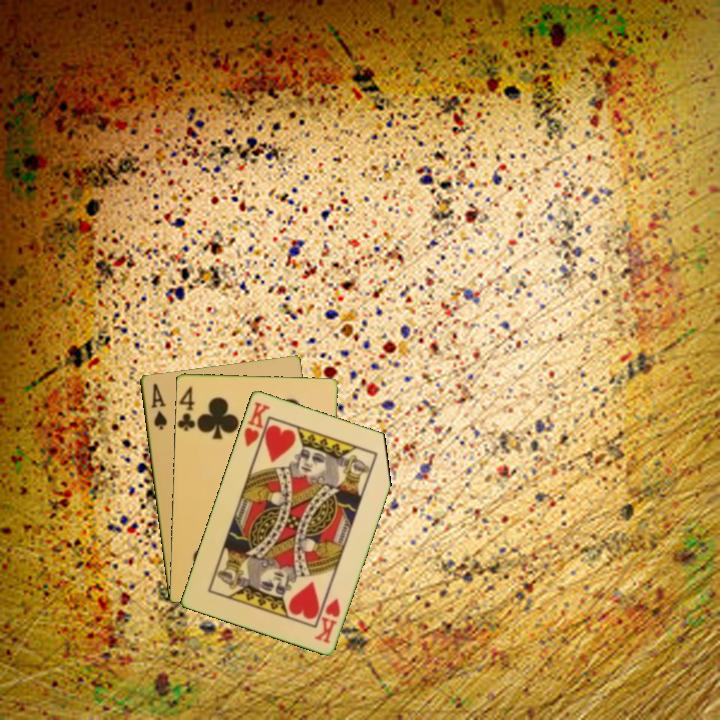4c: (176, 383, 198, 434)
As: (147, 380, 170, 432)
Kh: (240, 398, 273, 455), (310, 594, 343, 646)
